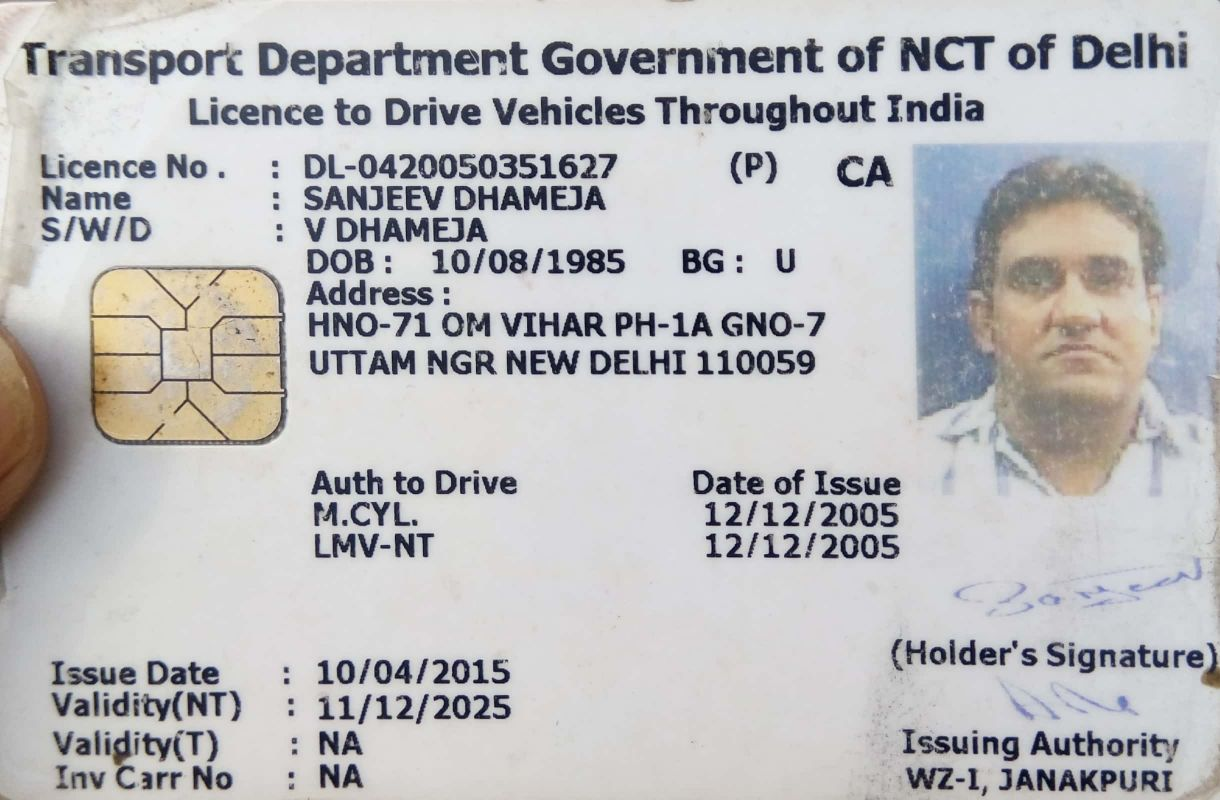text: (37, 150, 619, 185), (37, 183, 613, 214), (40, 213, 495, 245), (307, 245, 631, 281)
